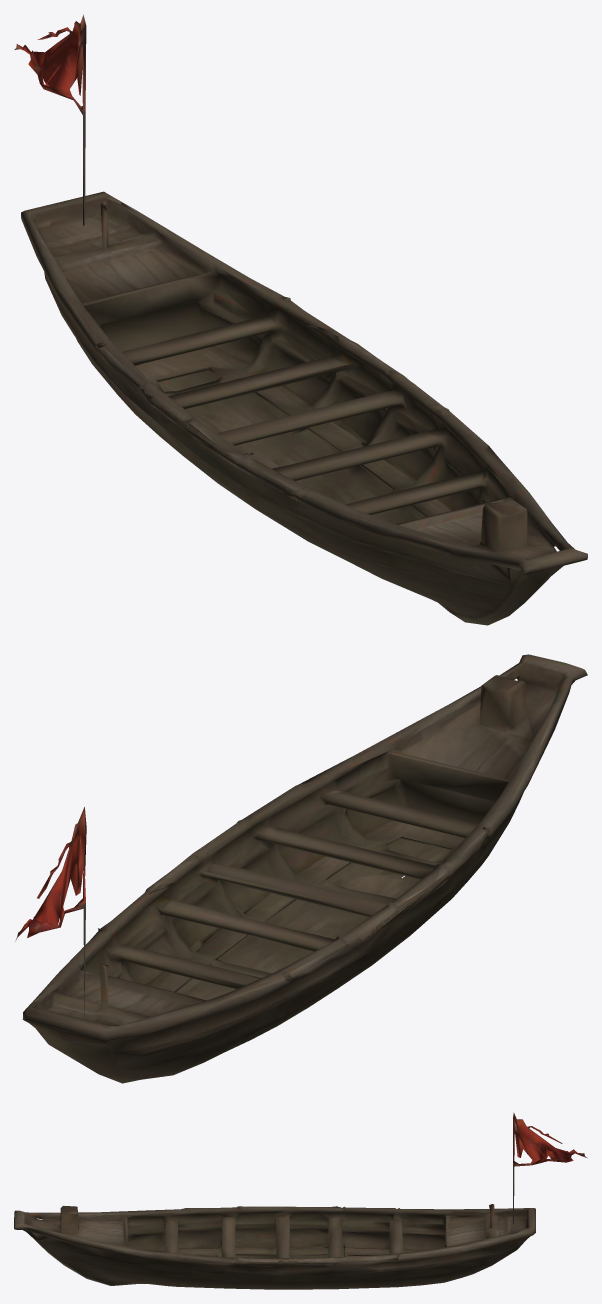
The model's file is thuyen-ts.glb.
3 renders of one model, top to bottom at view 1: azimuth 30°, elevation 25°; view 2: azimuth 150°, elevation 25°; view 3: azimuth 270°, elevation 25°, orthographic. The views are drawn at different scales.
Visible parts, largest first — view 1: Thuyen_TaySon_WEB; view 2: Thuyen_TaySon_WEB; view 3: Thuyen_TaySon_WEB.
Part boxes in pixels (left/top/right/bottom): Thuyen_TaySon_WEB: left=14, top=14, right=587, bottom=625; Thuyen_TaySon_WEB: left=15, top=654, right=587, bottom=1083; Thuyen_TaySon_WEB: left=14, top=1112, right=587, bottom=1289.
Size of the model in its own units: 1.59 by 2.34 by 7.
Materials: 1 (1 with a texture image).
